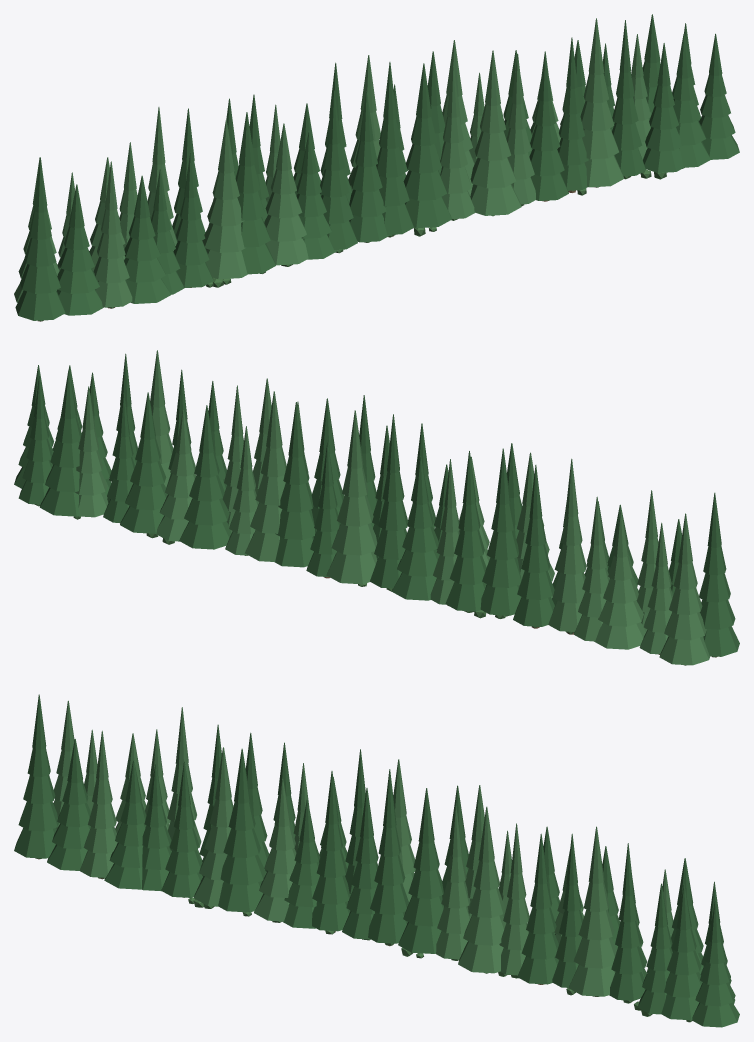
The model's file is treelineborder.fbx.
3 renders of one model, top to bottom at view 1: azimuth 30°, elevation 25°; view 2: azimuth 150°, elevation 25°; view 3: azimuth 330°, elevation 25°, orthographic.
Visible parts, largest first — view 1: PineTree_row0_15_Tier0, PineTree_row0_0_Tier0, PineTree_row0_15_Tier1, PineTree_row0_13_Tier0, PineTree_row0_13_Tier1, PineTree_row0_6_Tier1, PineTree_row0_6_Tier0, PineTree_row0_0_Tier1, PineTree_row0_19_Tier0, PineTree_row0_19_Tier1, PineTree_row0_8_Tier1, PineTree_row0_1_Tier0 (+69 smaller); view 2: PineTree_row1_11_Tier0, PineTree_row1_11_Tier1, PineTree_row1_0_Tier0, PineTree_row1_16_Tier0, PineTree_row1_2_Tier0, PineTree_row1_6_Tier0, PineTree_row1_5_Tier0, PineTree_row1_13_Tier1, PineTree_row1_13_Tier0, PineTree_row1_16_Tier1, PineTree_row1_6_Tier1, PineTree_row1_0_Tier1 (+60 smaller); view 3: PineTree_row0_19_Tier0, PineTree_row0_15_Tier0, PineTree_row0_7_Tier1, PineTree_row0_7_Tier0, PineTree_row0_19_Tier1, PineTree_row0_15_Tier1, PineTree_row0_13_Tier0, PineTree_row0_12_Tier0, PineTree_row0_0_Tier0, PineTree_row0_13_Tier1, PineTree_row0_12_Tier1, PineTree_row0_0_Tier1 (+58 smaller).
Part boxes in pixels (x1,y1,x2,y2): PineTree_row0_15_Tier0: [470, 184, 521, 215]; PineTree_row0_0_Tier0: [15, 290, 65, 320]; PineTree_row0_15_Tier1: [470, 157, 516, 188]; PineTree_row0_13_Tier0: [405, 196, 452, 228]; PineTree_row0_13_Tier1: [403, 170, 446, 200]; PineTree_row0_6_Tier1: [202, 223, 245, 252]; PineTree_row0_6_Tier0: [205, 248, 247, 279]; PineTree_row0_0_Tier1: [20, 264, 60, 293]; PineTree_row0_19_Tier0: [584, 155, 624, 187]; PineTree_row0_19_Tier1: [582, 128, 618, 159]; PineTree_row0_8_Tier1: [264, 214, 306, 241]; PineTree_row0_1_Tier0: [57, 289, 103, 315]; PineTree_row1_11_Tier0: [326, 551, 377, 584]; PineTree_row1_11_Tier1: [331, 523, 377, 555]; PineTree_row1_0_Tier0: [659, 636, 710, 665]; PineTree_row1_16_Tier0: [179, 521, 231, 549]; PineTree_row1_2_Tier0: [594, 622, 645, 649]; PineTree_row1_6_Tier0: [480, 584, 521, 615]; PineTree_row1_5_Tier0: [513, 597, 554, 626]; PineTree_row1_13_Tier1: [275, 509, 315, 539]; PineTree_row1_13_Tier0: [274, 536, 313, 567]; PineTree_row1_16_Tier1: [184, 498, 229, 525]; PineTree_row1_6_Tier1: [482, 557, 521, 587]; PineTree_row1_0_Tier1: [664, 612, 706, 640]; PineTree_row0_19_Tier0: [568, 964, 615, 996]; PineTree_row0_15_Tier0: [458, 941, 503, 973]; PineTree_row0_7_Tier1: [220, 854, 265, 885]; PineTree_row0_7_Tier0: [218, 881, 263, 912]; PineTree_row0_19_Tier1: [573, 937, 616, 968]; PineTree_row0_15_Tier1: [463, 914, 505, 945]; PineTree_row0_13_Tier0: [398, 922, 441, 953]; PineTree_row0_12_Tier0: [368, 911, 407, 943]; PineTree_row0_0_Tier0: [14, 828, 56, 858]; PineTree_row0_13_Tier1: [403, 895, 443, 926]; PineTree_row0_12_Tier1: [370, 883, 408, 914]; PineTree_row0_0_Tier1: [18, 801, 58, 831].
Bounding box in the file's own units: 8612 × 2027 × 1013.
